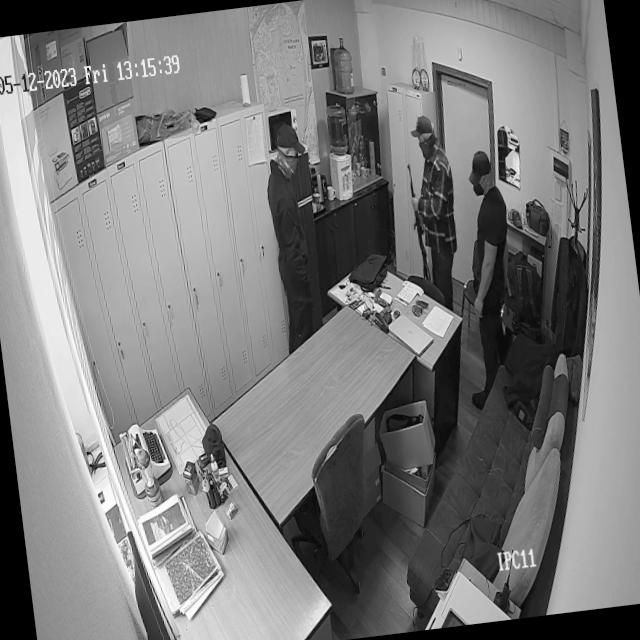gun: (404, 162, 432, 290)
person: (262, 126, 319, 351)
person with a gun: (448, 144, 530, 406), (401, 110, 468, 320)
